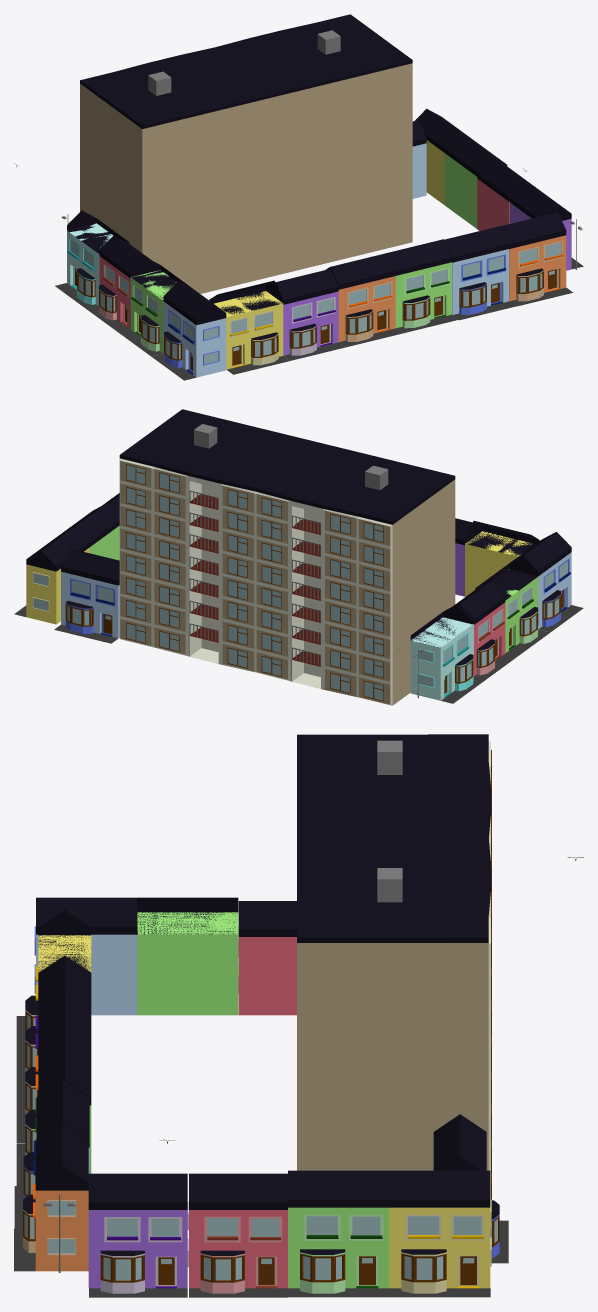
Rendered from 2x3block.glb.
3 views of the same model, one above another, from view 1: azimuth 30°, elevation 25°; view 2: azimuth 150°, elevation 25°; view 3: azimuth 270°, elevation 25° (orthographic). The views are drawn at different scales.
Visible parts, largest first — view 1: Plane; view 2: Plane; view 3: Plane.
Part boxes in pixels (bbox=[...]): Plane: bbox=[55, 14, 583, 380]; Plane: bbox=[14, 409, 583, 705]; Plane: bbox=[14, 734, 508, 1297].
Bounding box in the file's own units: 0.299 × 0.1359 × 0.2296.
